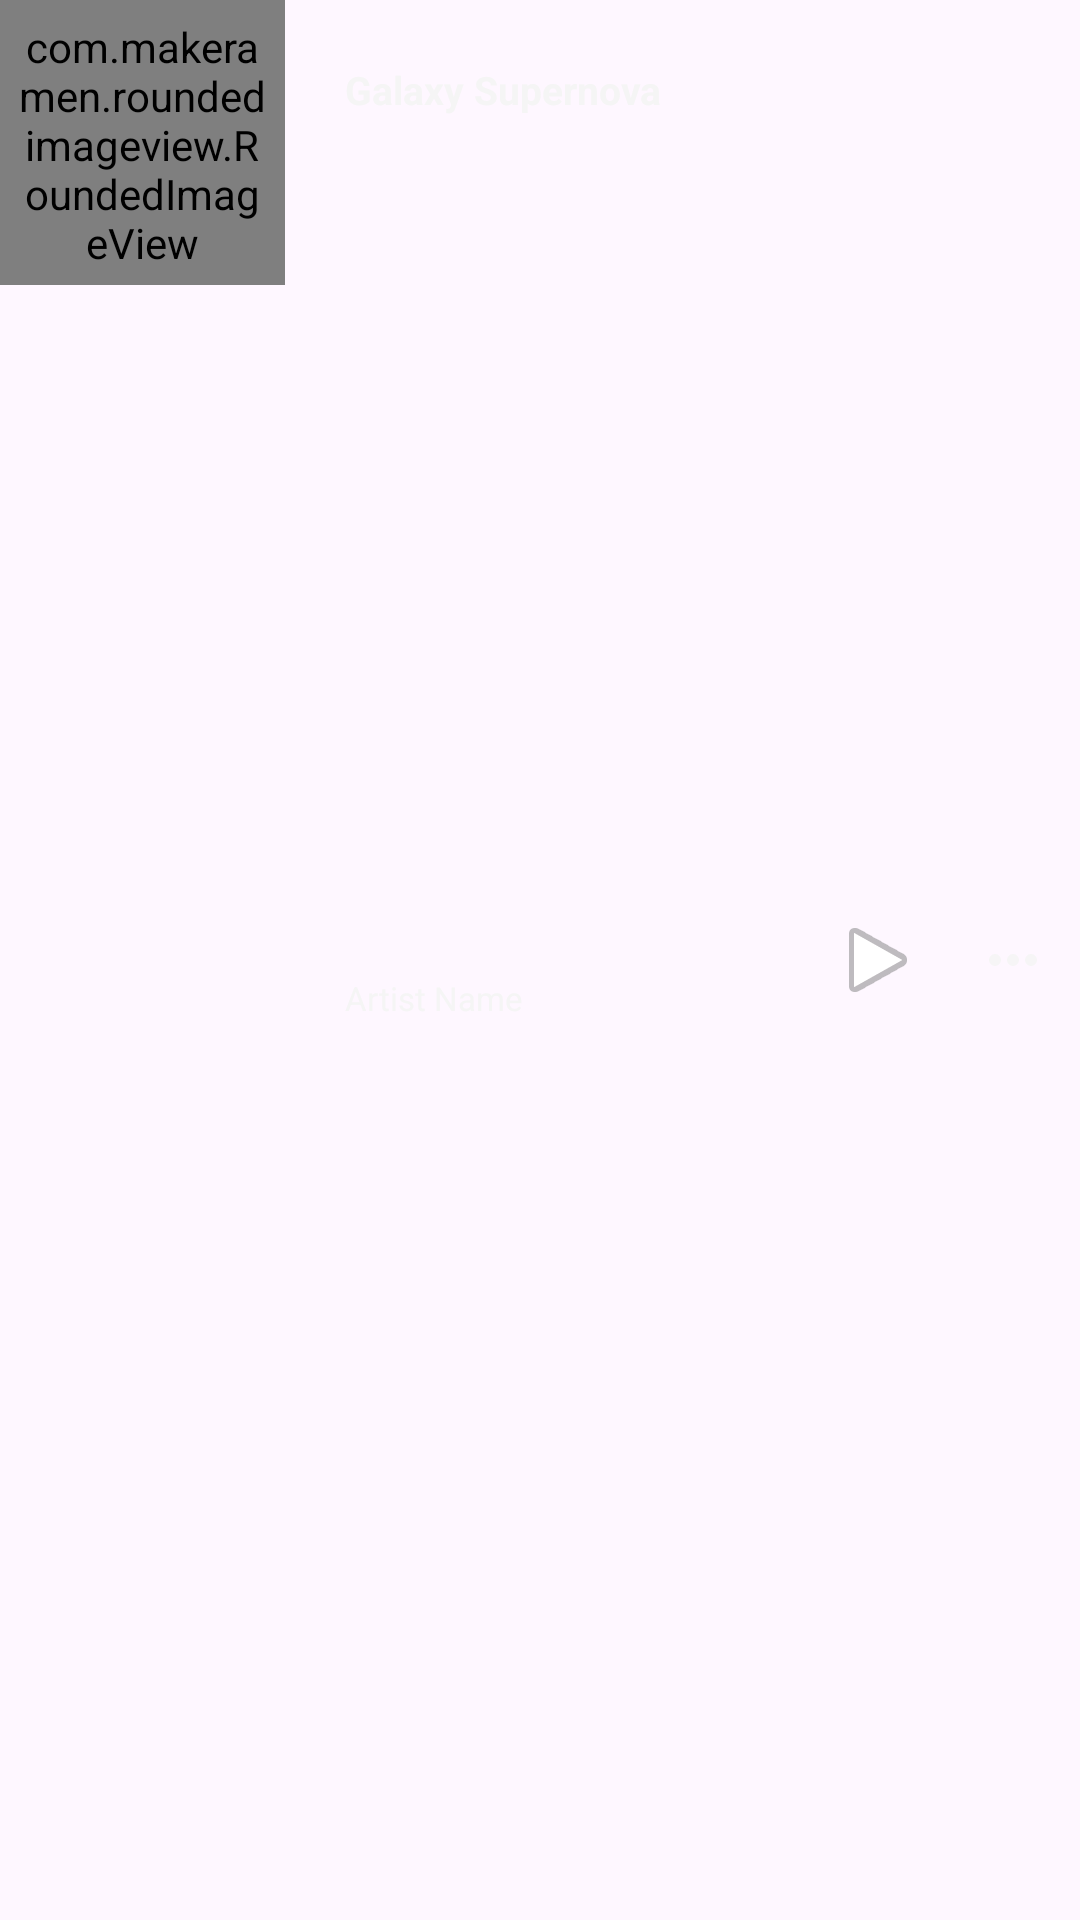

Named icons in this screenshot (1080 x 1920) and their centers, [x,y]:
play: [878,960]
